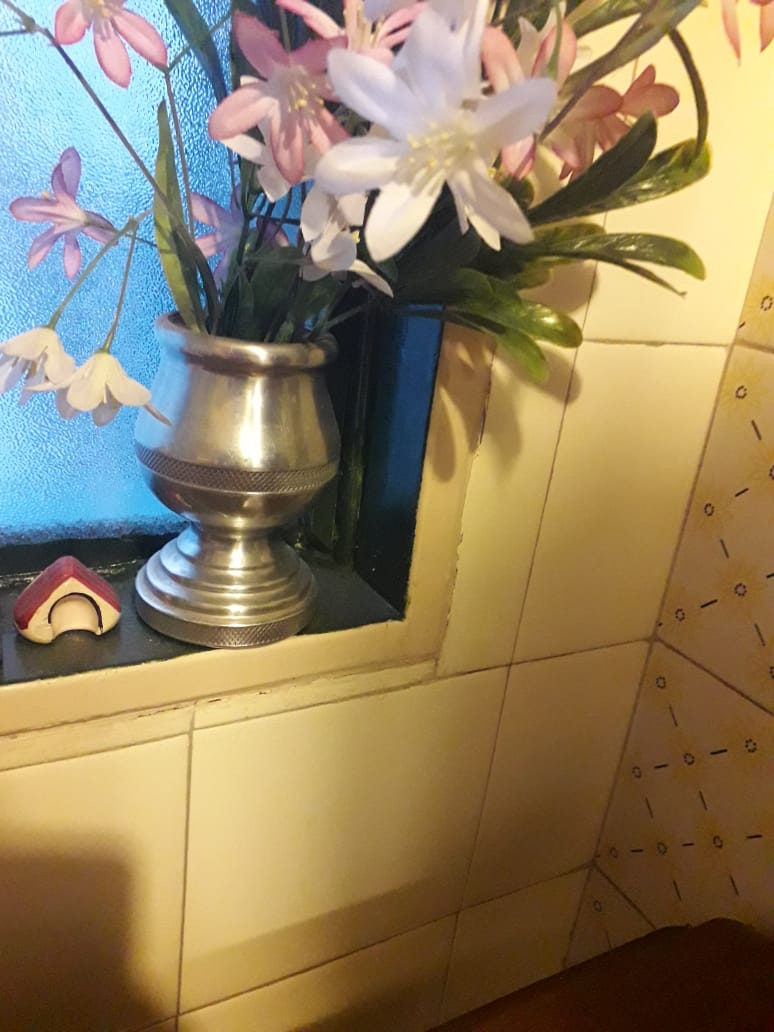mate: (133, 300, 339, 650)
metal: (131, 298, 337, 648)
